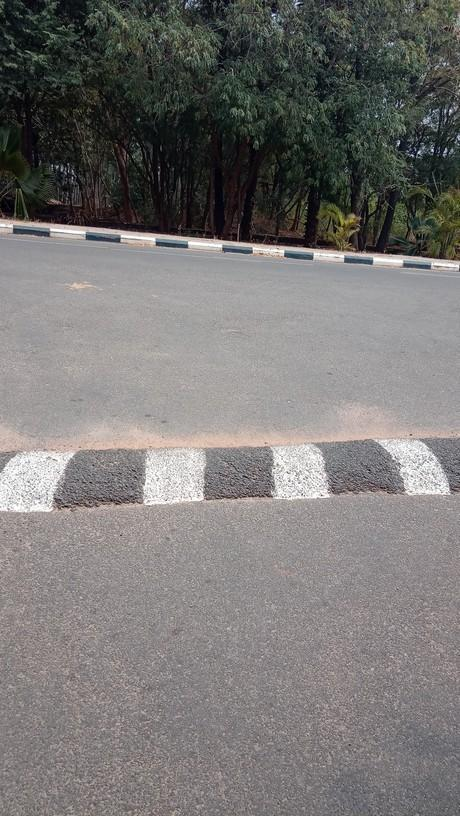speedbreaker: (0, 438, 460, 532)
